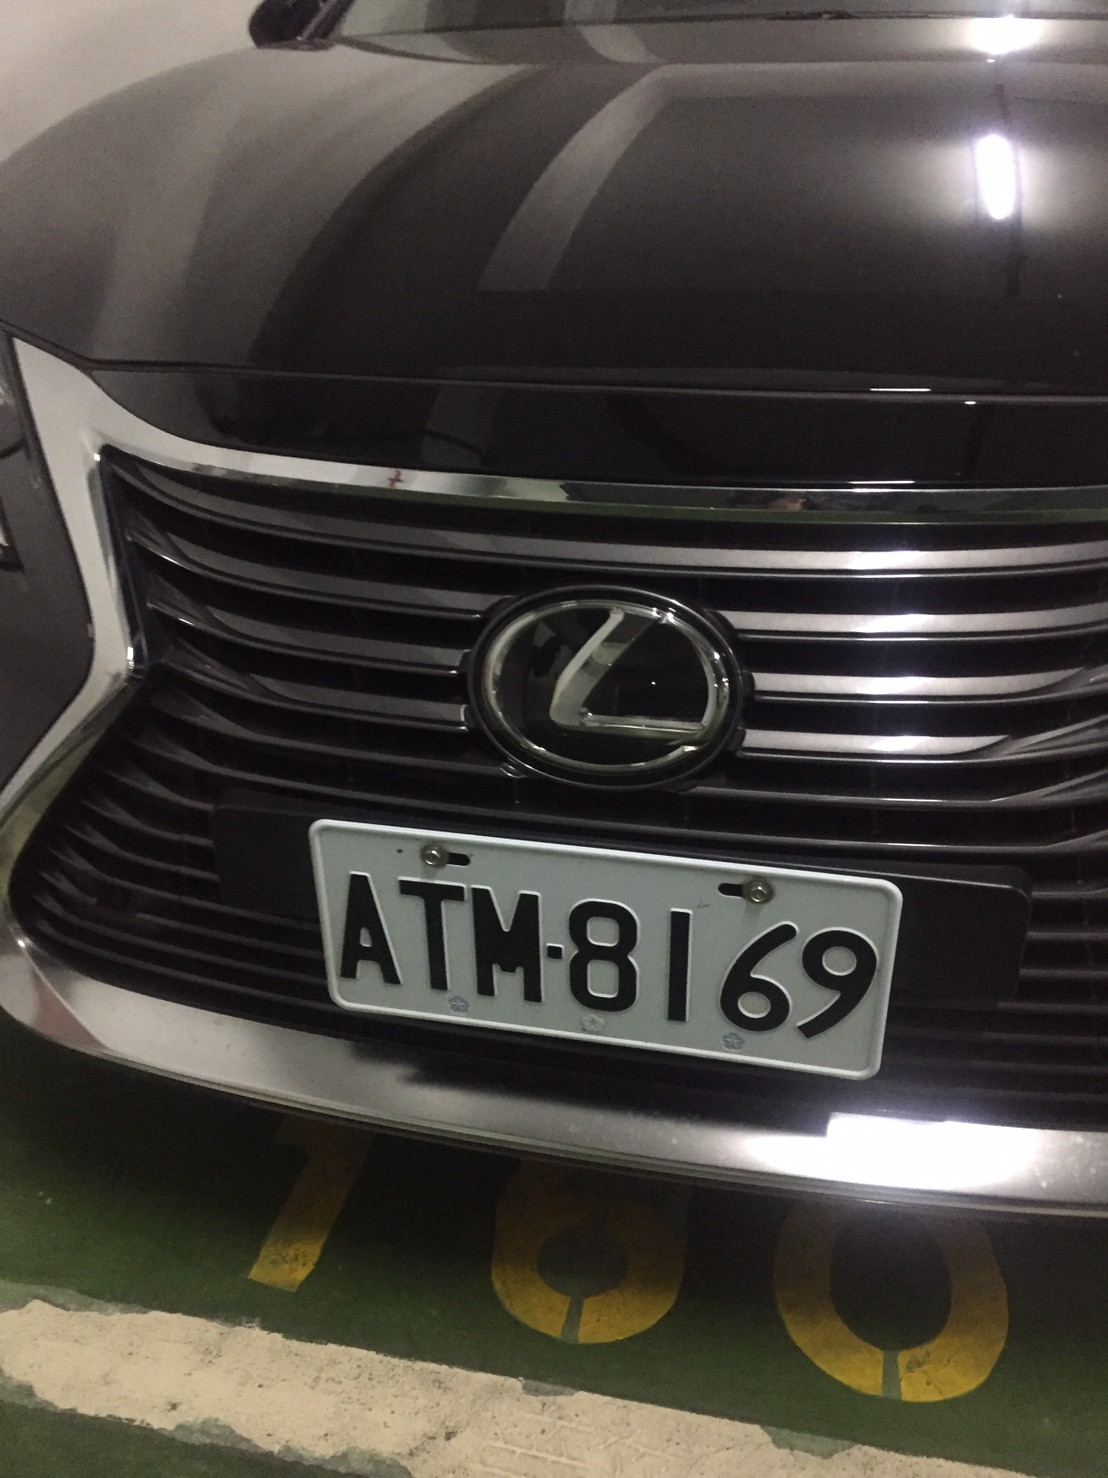LP: (312, 822, 886, 1082)
